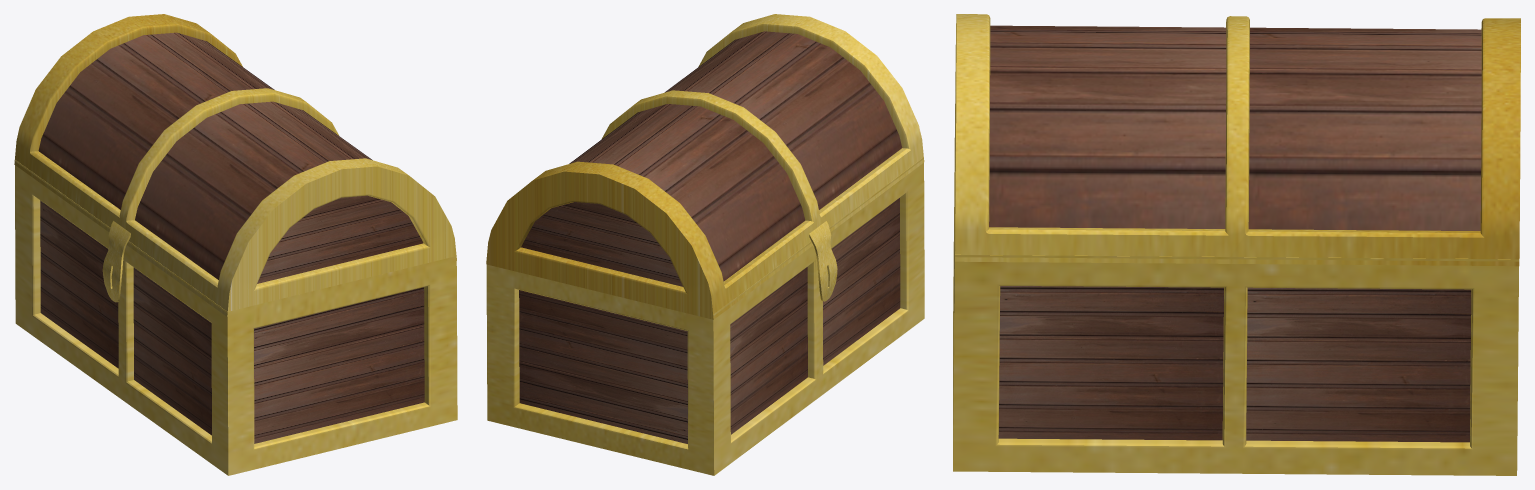
Rendered from cofrenormal.fbx.
3 renders of one model, left to right at view 1: azimuth 30°, elevation 25°; view 2: azimuth 150°, elevation 25°; view 3: azimuth 270°, elevation 25°, orthographic. The views are drawn at different scales.
Visible parts, largest first — view 1: TapaCofre, Cofre; view 2: TapaCofre, Cofre; view 3: TapaCofre, Cofre.
Part boxes in pixels (x1,y1,x2,y2): TapaCofre: (14,14,456,316); Cofre: (15,160,457,475); TapaCofre: (486,14,924,319); Cofre: (486,157,924,475); TapaCofre: (955,14,1520,266); Cofre: (953,138,1519,475).
Size of the model in its own units: 162 by 181 by 251.
